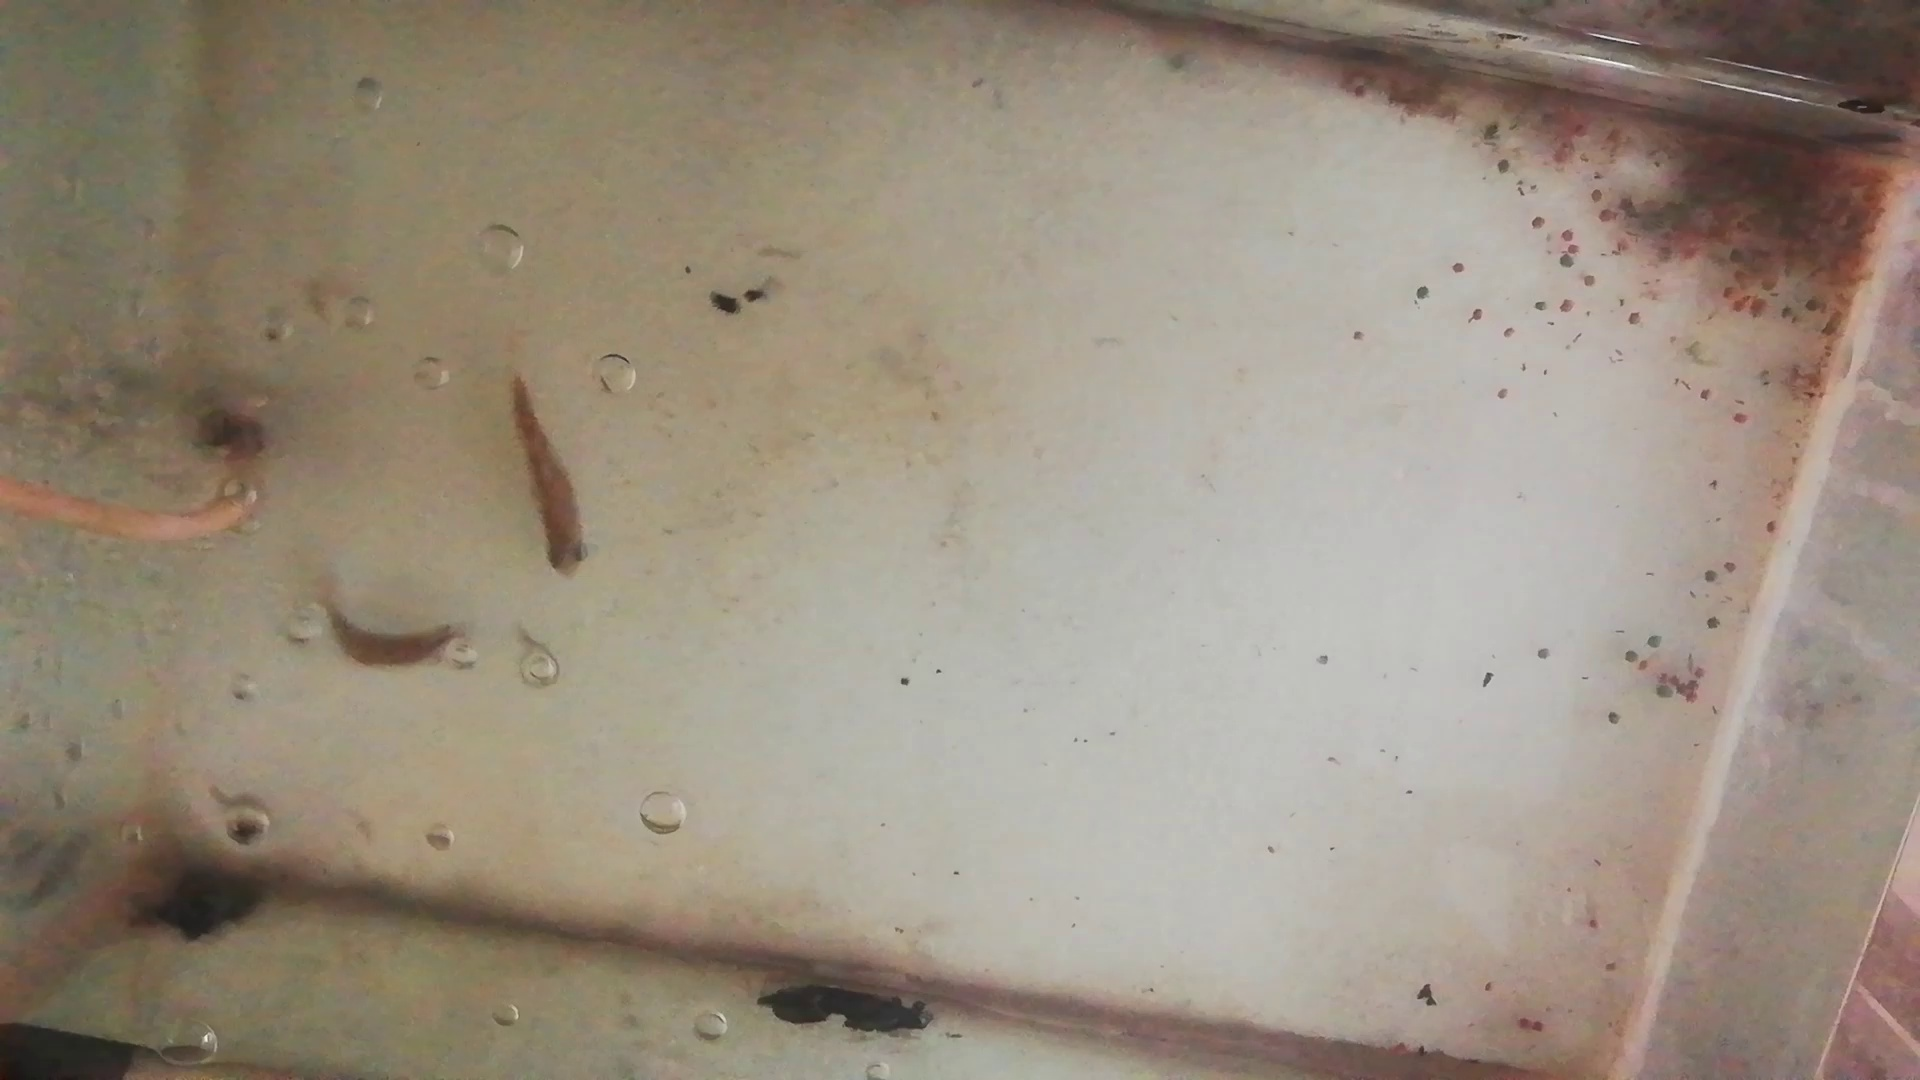fish: (508, 375, 585, 582), (316, 591, 477, 673)
